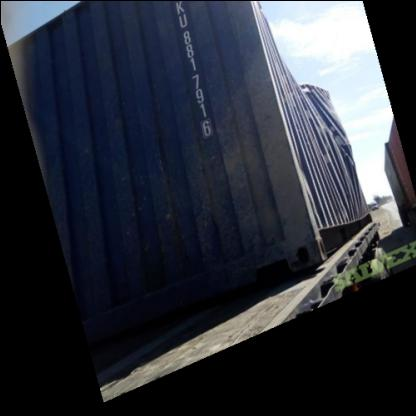Damage: (297, 76, 360, 204)
